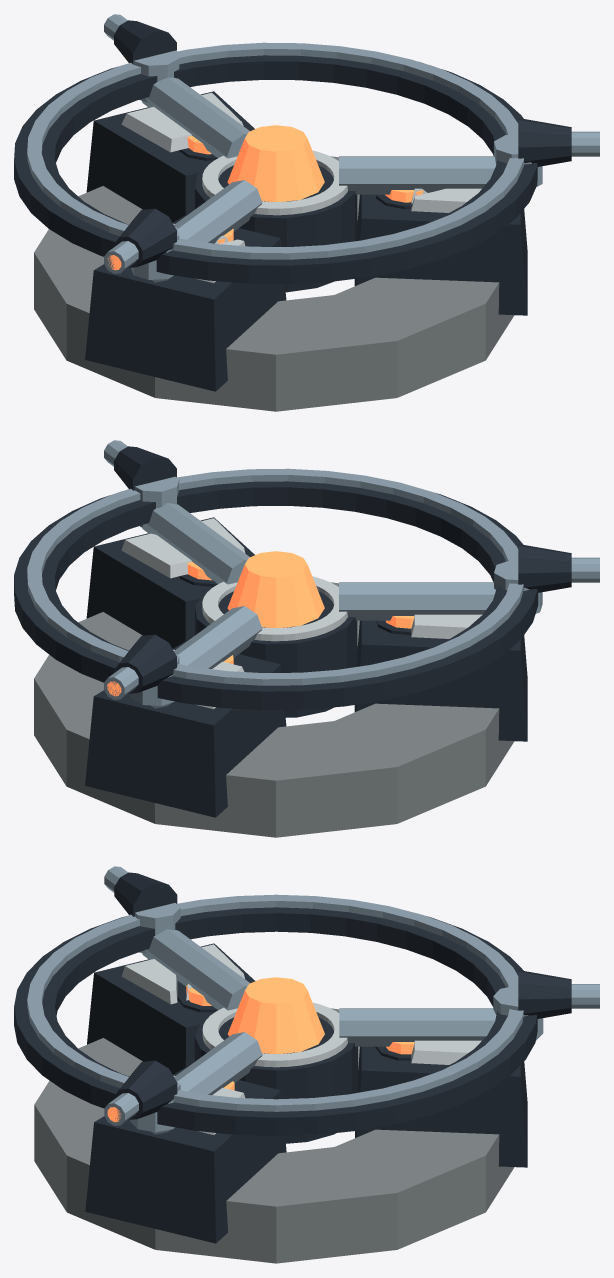
The model's file is c3_spiral.glb.
The picture shows the model from 3 angles, top to bottom: view 1: azimuth 30°, elevation 25°; view 2: azimuth 150°, elevation 25°; view 3: azimuth 270°, elevation 25°; orthographic projection.
Parts seen in each view (by area): view 1: c3_spiral / Armor, c3_spiral / Chassis, radial_rotor / Chassis, radial_rotor / Titanium, c3_spiral / Identification, c3_spiral / Energy; view 2: c3_spiral / Armor, c3_spiral / Chassis, radial_rotor / Chassis, radial_rotor / Titanium, c3_spiral / Identification, c3_spiral / Energy; view 3: c3_spiral / Armor, c3_spiral / Chassis, radial_rotor / Chassis, radial_rotor / Titanium, c3_spiral / Identification, c3_spiral / Energy.
Boxes of the visible parts, <box> form: c3_spiral / Armor: <box>34,156,514,411</box>; c3_spiral / Chassis: <box>85,91,527,391</box>; radial_rotor / Chassis: <box>14,20,571,284</box>; radial_rotor / Titanium: <box>27,14,599,282</box>; c3_spiral / Identification: <box>121,92,481,283</box>; c3_spiral / Energy: <box>187,125,423,243</box>; c3_spiral / Armor: <box>34,582,514,837</box>; c3_spiral / Chassis: <box>85,517,527,817</box>; radial_rotor / Chassis: <box>14,446,571,710</box>; radial_rotor / Titanium: <box>27,440,599,708</box>; c3_spiral / Identification: <box>121,518,482,709</box>; c3_spiral / Energy: <box>187,551,414,664</box>; c3_spiral / Armor: <box>34,1008,514,1263</box>; c3_spiral / Chassis: <box>85,943,527,1243</box>; radial_rotor / Chassis: <box>14,872,571,1136</box>; radial_rotor / Titanium: <box>27,866,599,1134</box>; c3_spiral / Identification: <box>121,944,481,1134</box>; c3_spiral / Energy: <box>186,977,414,1090</box>.
Bounding box in the file's own units: 1.82 × 0.665 × 1.86.
